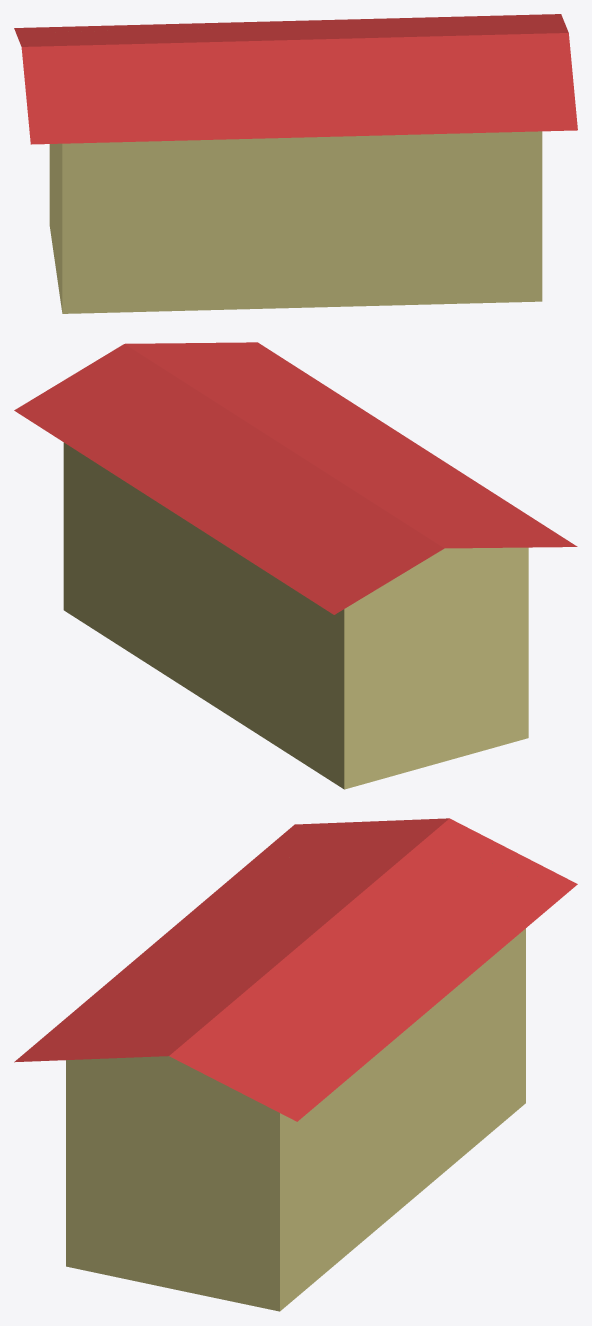
3 views of the same model, one above another, from view 1: azimuth 30°, elevation 25°; view 2: azimuth 150°, elevation 25°; view 3: azimuth 270°, elevation 25° (orthographic). The views are drawn at different scales.
Bounding box in the file's own units: 18.17 × 14.56 × 7.14.
